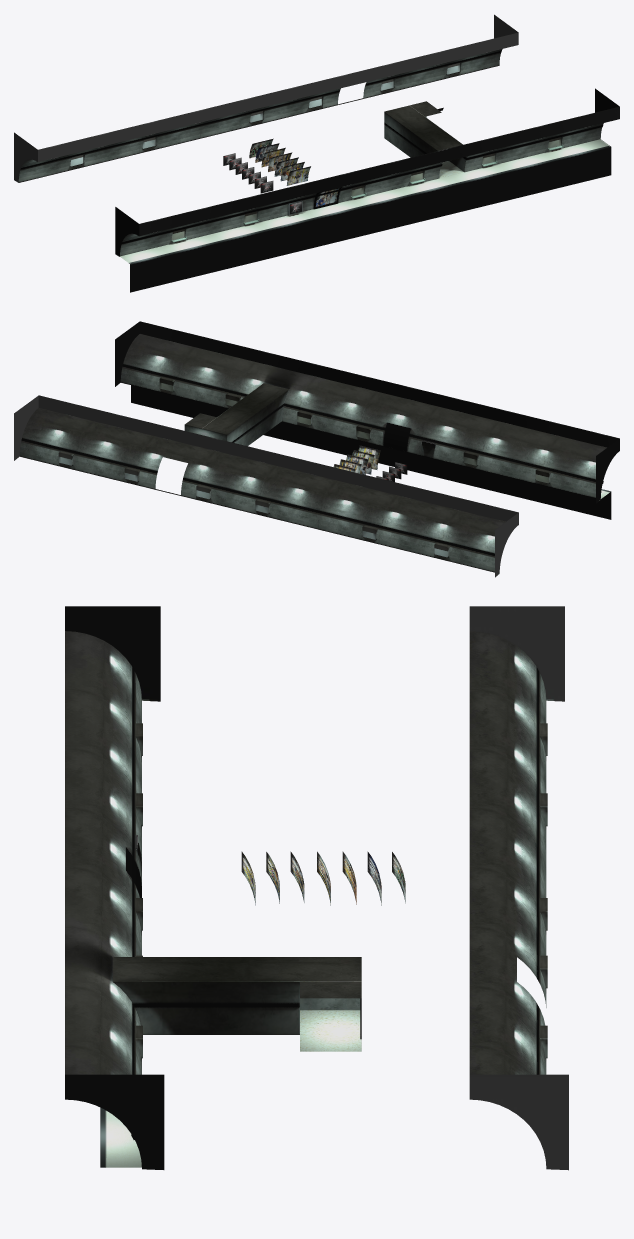
Rendered from anden.glb.
3 renders of one model, top to bottom at view 1: azimuth 30°, elevation 25°; view 2: azimuth 150°, elevation 25°; view 3: azimuth 270°, elevation 25°, orthographic. The views are drawn at different scales.
Parts seen in each view (by area): view 1: anden, pared-sin-cartel, pared, pasillo, soportes; view 2: pared-sin-cartel, pared, anden, pasillo; view 3: pared-sin-cartel, pared, pasillo, anden.
Part boxes in pixels (x1,y1,x2,y2): anden: (120, 139, 611, 292); pared-sin-cartel: (14, 14, 518, 182); pared: (115, 88, 619, 256); pasillo: (384, 101, 467, 178); soportes: (121, 107, 603, 243); pared-sin-cartel: (14, 395, 518, 577); pared: (115, 321, 619, 503); anden: (131, 385, 611, 519); pasillo: (184, 383, 288, 446); pared-sin-cartel: (469, 606, 568, 1170); pared: (65, 606, 164, 1169); pasillo: (112, 957, 361, 1051); anden: (100, 1107, 141, 1167).
Size of the model in its own units: 400 by 59.7 by 182.
Materials: 24 (22 with a texture image).
